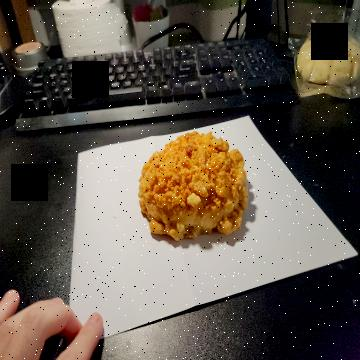soboru_bread: (134, 131, 250, 241)
